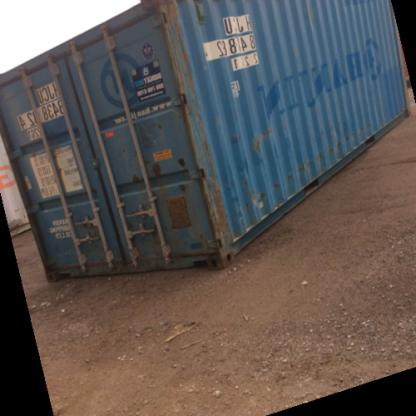Damage: (252, 141, 366, 185), (155, 6, 197, 98), (183, 96, 218, 174), (202, 176, 232, 242), (245, 125, 290, 147), (124, 240, 146, 269), (150, 154, 168, 182), (254, 186, 273, 212), (125, 173, 148, 193), (172, 180, 190, 201), (172, 154, 192, 172)
